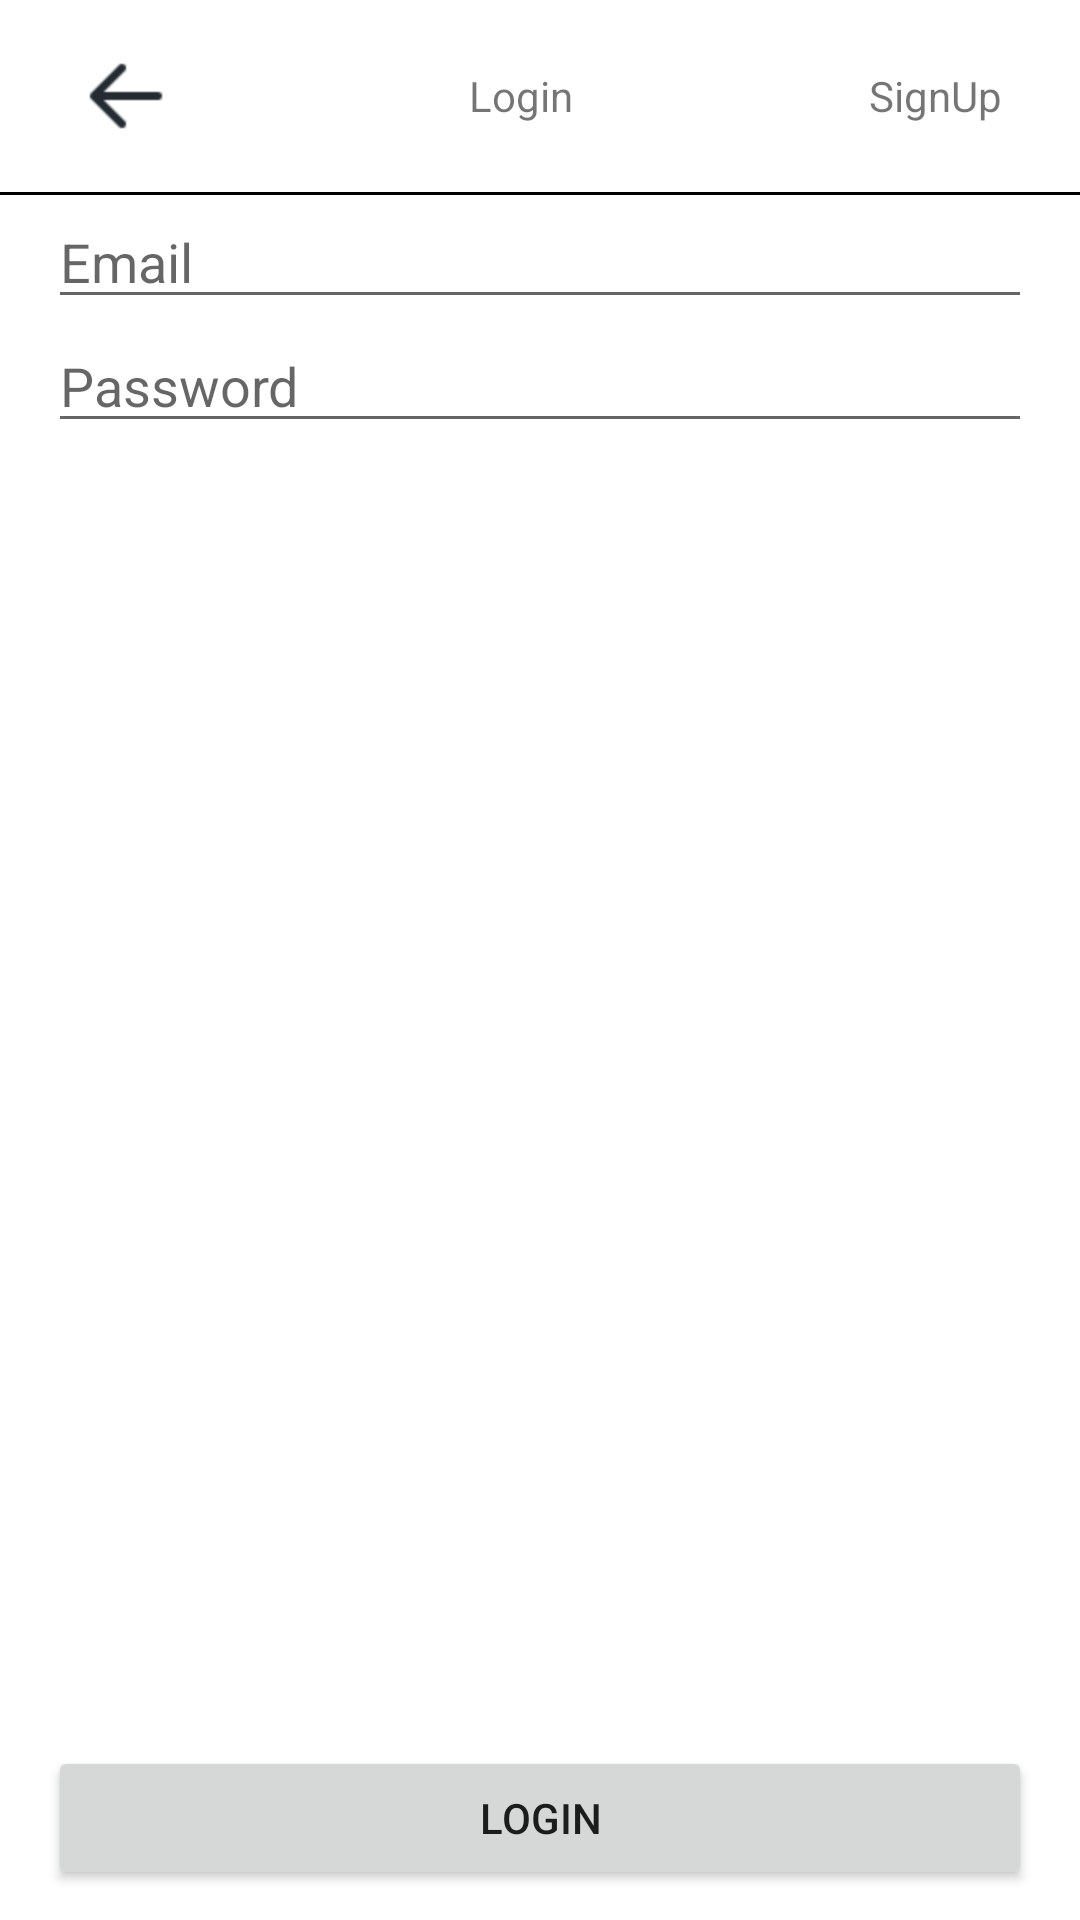

Icons on this 1080w x 1920h Android screen, each with the point to tap as (x=x, y=y):
head back: (x=126, y=96)
